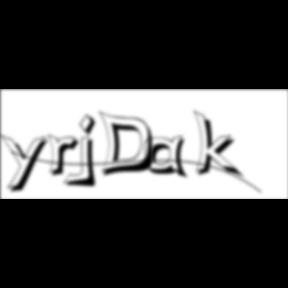D: (98, 110, 162, 180)
a: (145, 135, 193, 182)
j: (76, 113, 104, 191)
k: (194, 108, 246, 181)
r: (48, 134, 86, 180)
y: (0, 132, 54, 196)
